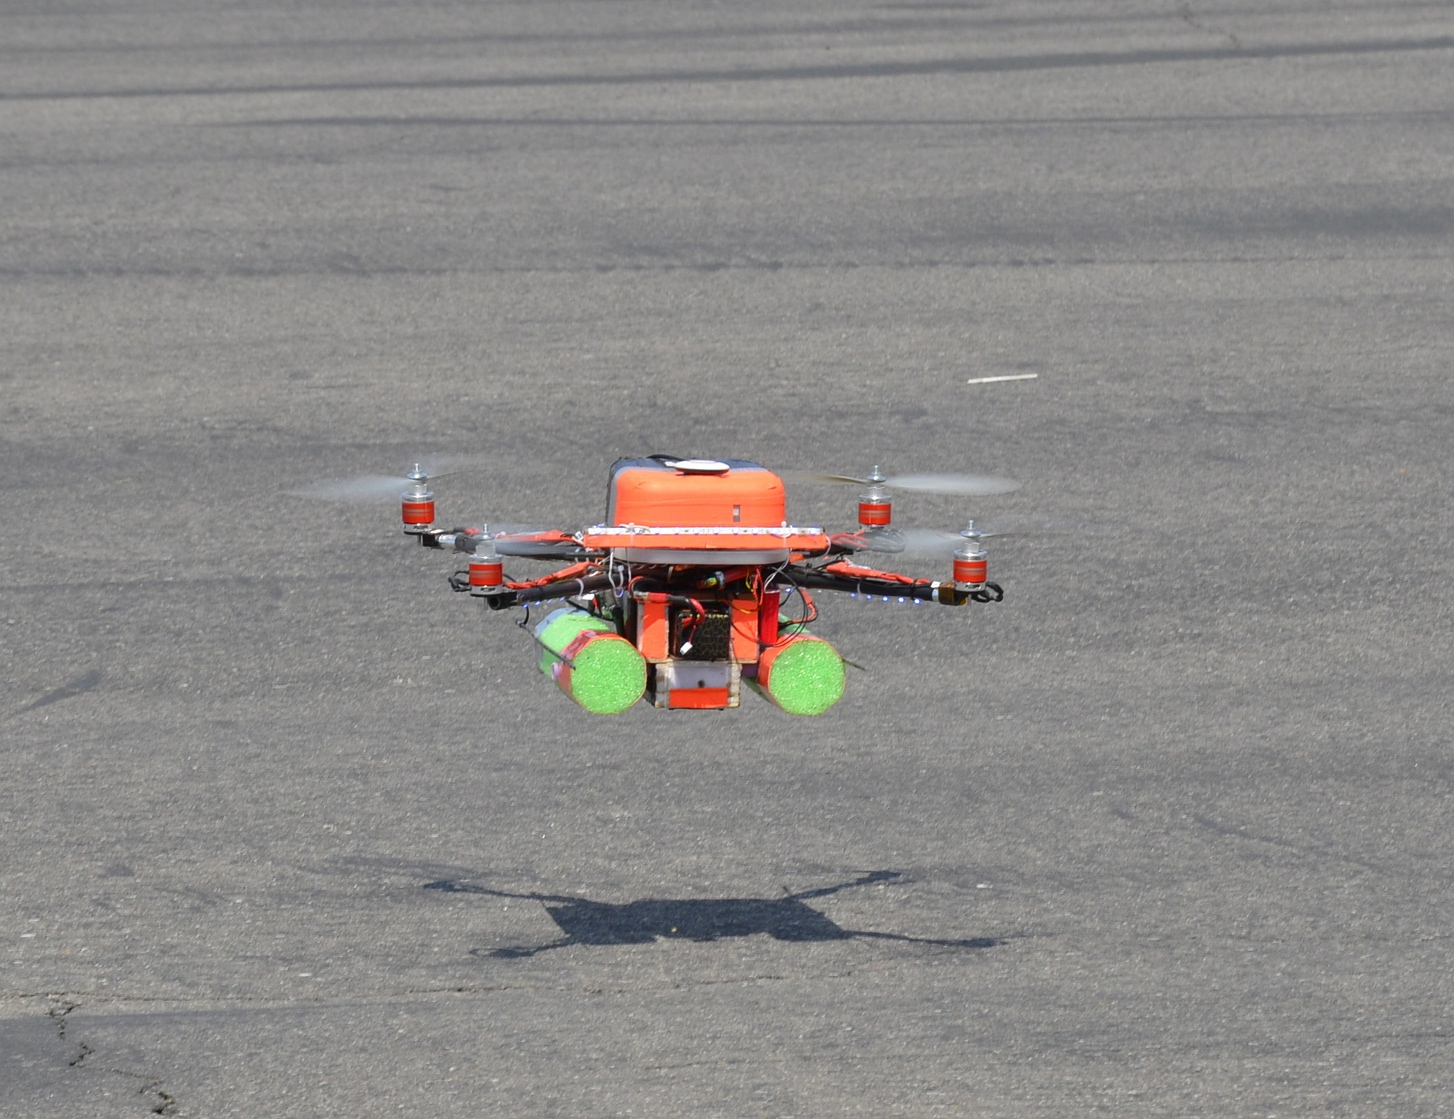drone: (289, 440, 1028, 729)
shadow_of_drone: (427, 862, 1016, 971)
